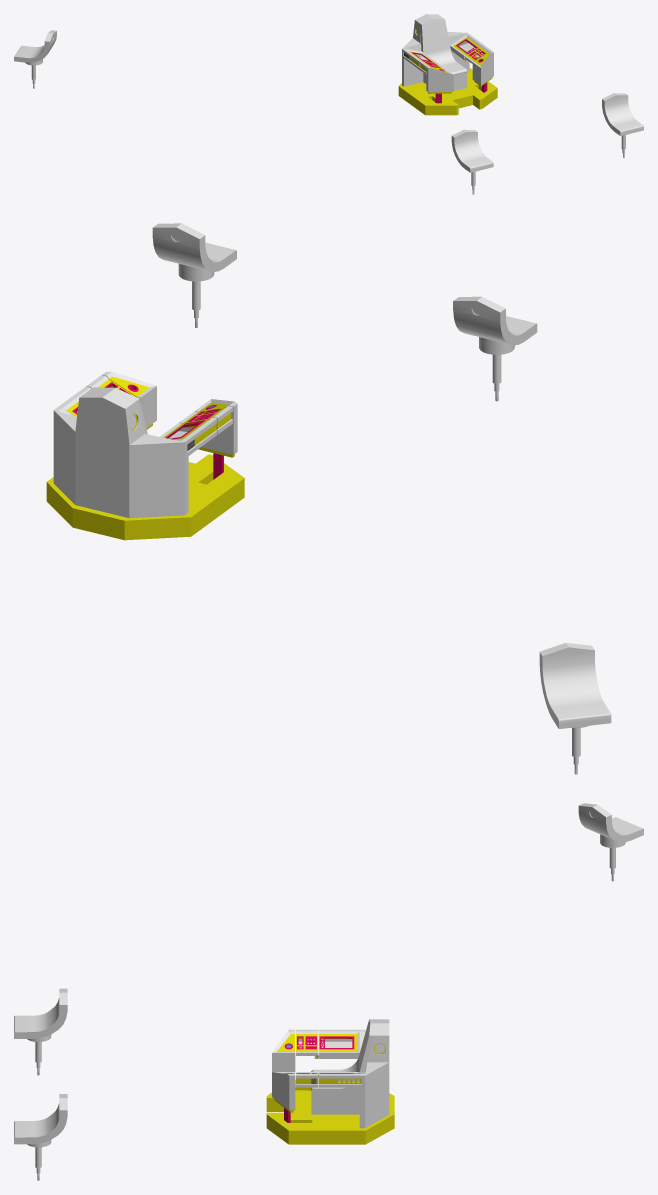
File: PositionSeatsV3.fbx
3 views of the same model, one above another, from view 1: azimuth 30°, elevation 25°; view 2: azimuth 150°, elevation 25°; view 3: azimuth 270°, elevation 25° (orthographic). The views are drawn at different scales.
Visible parts, largest first — view 1: CaptainSeat, CaptainSeatRetractables, TacticianSeat, PilotSeat, EngineerSeat; view 2: CaptainSeat, EngineerSeat, TacticianSeat, PilotSeat, CaptainSeatRetractables; view 3: CaptainSeat, EngineerSeat, CaptainSeatRetractables, TacticianSeat, PilotSeat, CaptainStarboardFlipout.
Boxes of the visible parts, <box> form: CaptainSeat: <box>398,14,497,115</box>; CaptainSeatRetractables: <box>426,50,493,103</box>; TacticianSeat: <box>451,129,493,194</box>; PilotSeat: <box>602,93,643,158</box>; EngineerSeat: <box>14,30,56,88</box>; CaptainSeat: <box>46,386,244,540</box>; EngineerSeat: <box>539,643,611,774</box>; TacticianSeat: <box>453,296,537,401</box>; PilotSeat: <box>152,223,236,327</box>; CaptainSeatRetractables: <box>102,371,237,479</box>; CaptainSeat: <box>266,1019,394,1144</box>; EngineerSeat: <box>578,803,643,881</box>; CaptainSeatRetractables: <box>272,1029,295,1122</box>; TacticianSeat: <box>14,988,67,1075</box>; PilotSeat: <box>14,1094,67,1180</box>; CaptainStarboardFlipout: <box>296,1029,317,1058</box>.
Size of the model in its own units: 10.63 by 1.82 by 9.6.
